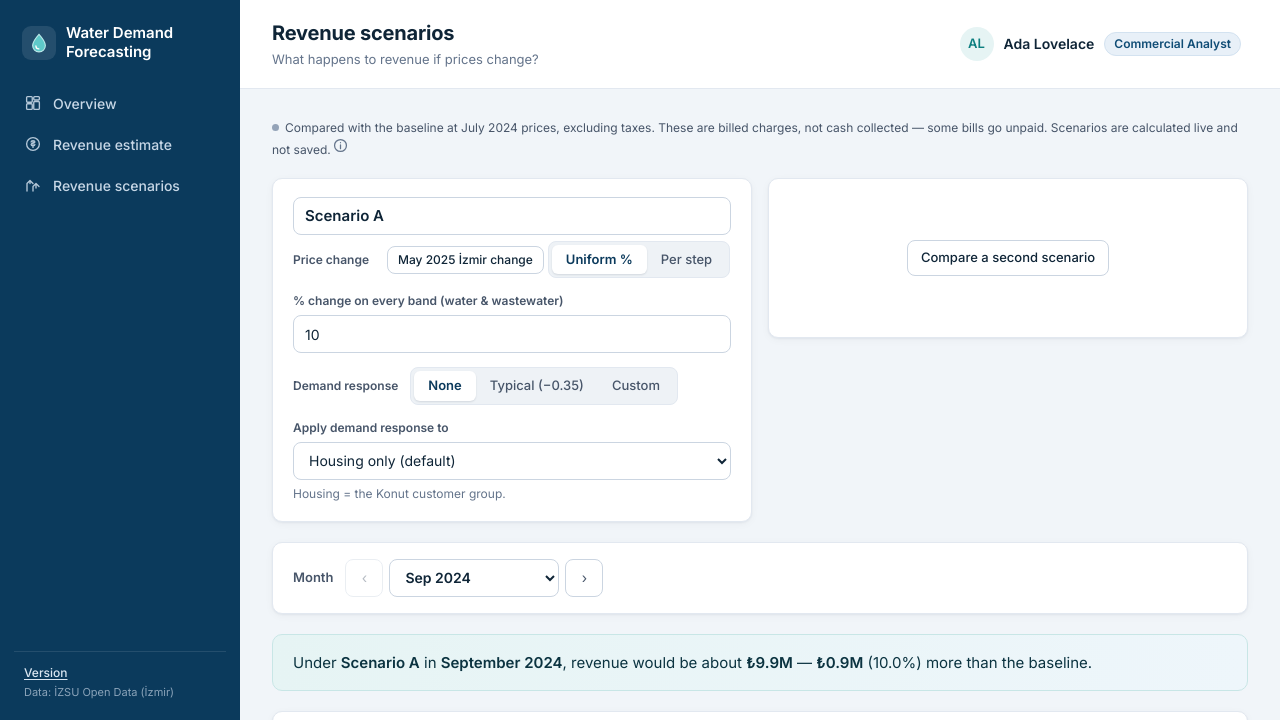
Scenario: changing the month updates the table figures
Select "Oct 2024" in the dropdown labelled "Month" at coordinates (474, 578), box x1=389 y1=559 x2=559 y2=597
(page scrolled)
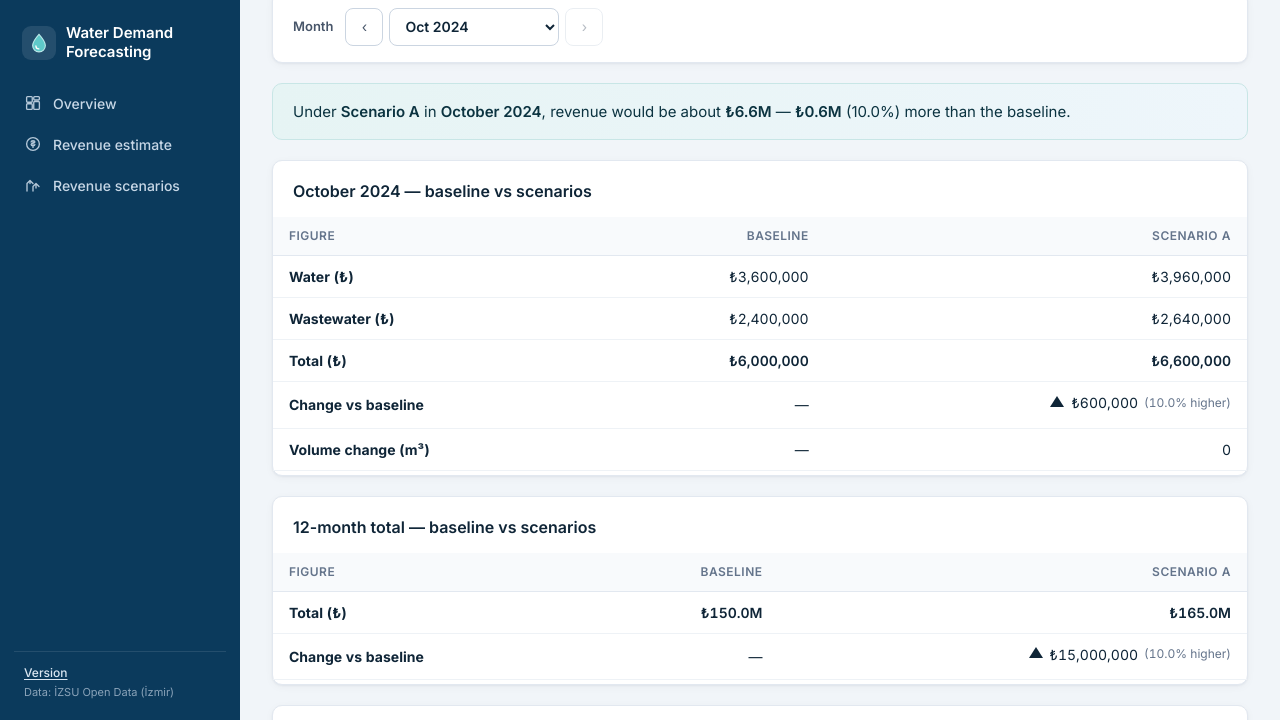
Expected: the text "₺6,000,000" is shown, x1=729 y1=352 x2=809 y2=369
